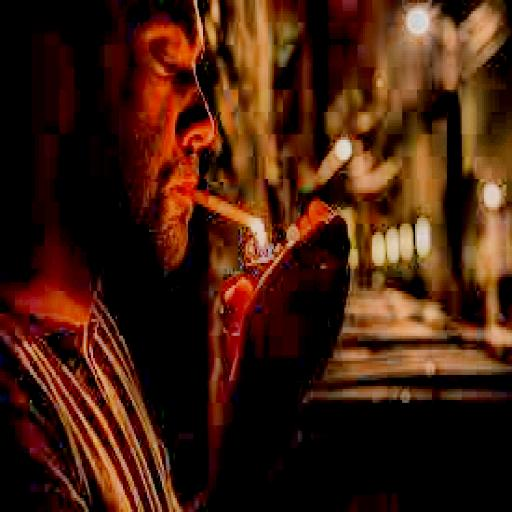fire: (240, 207, 270, 263)
